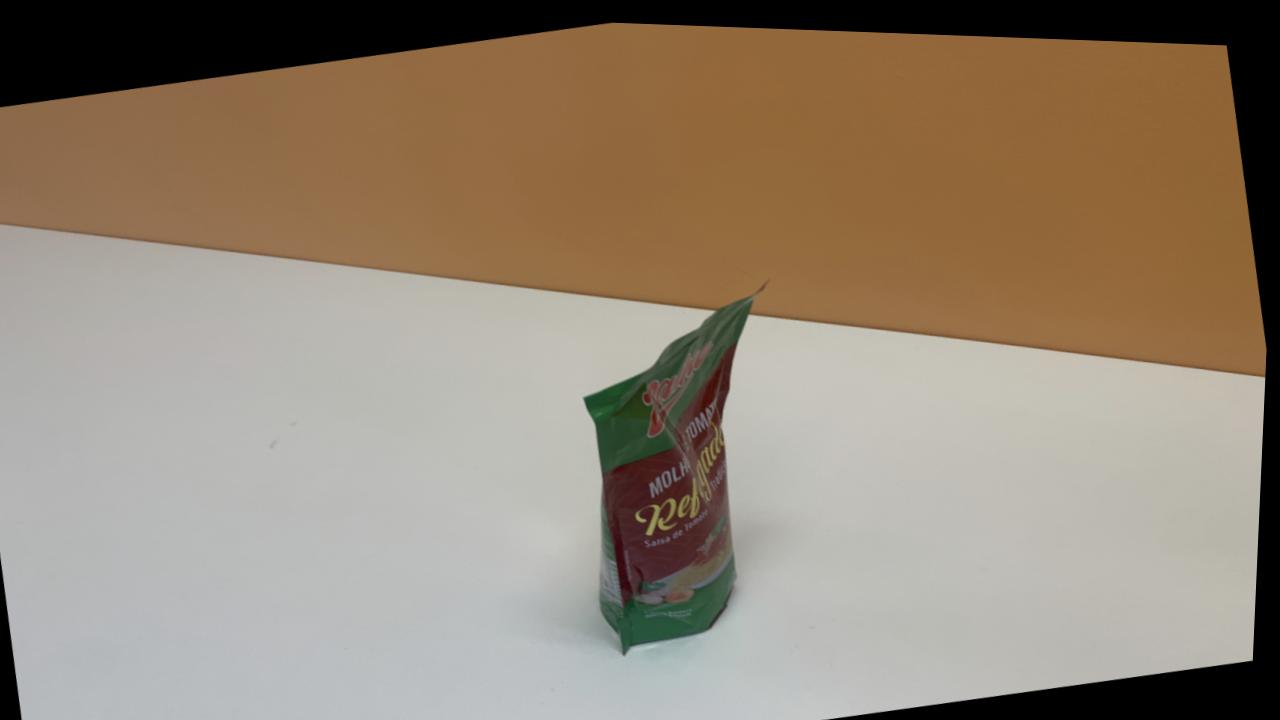Tomato_Sauce-Pantry_Items: (586, 289, 759, 645)
